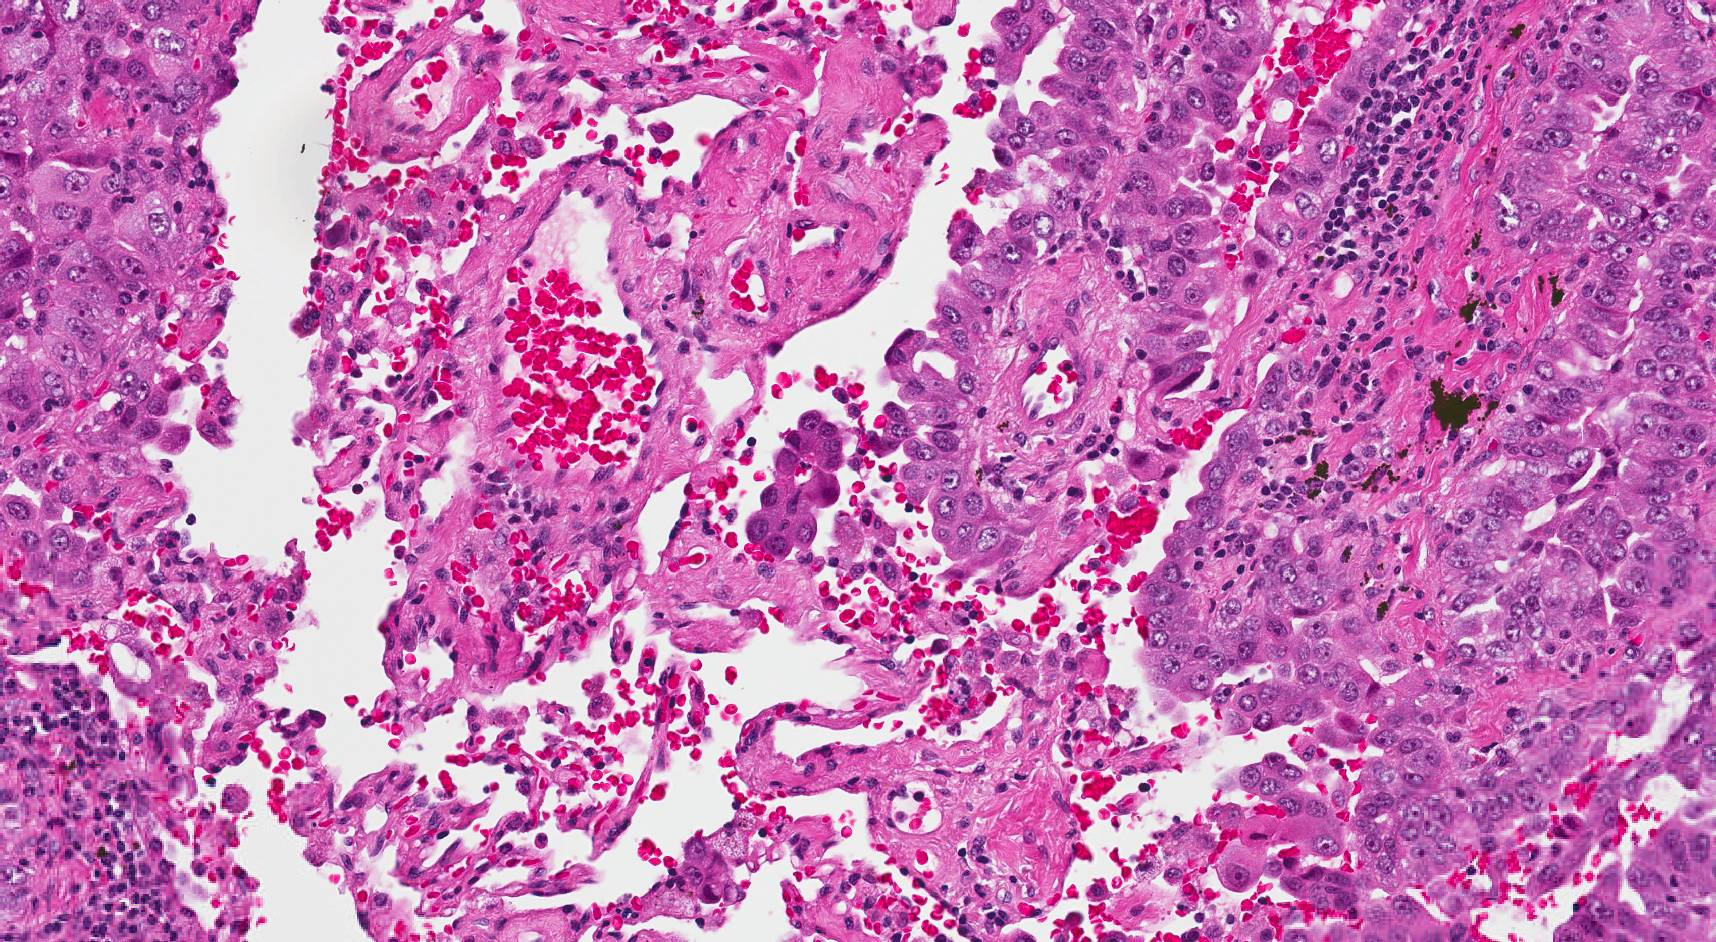stas: (747, 405, 844, 565), (678, 827, 745, 910)
